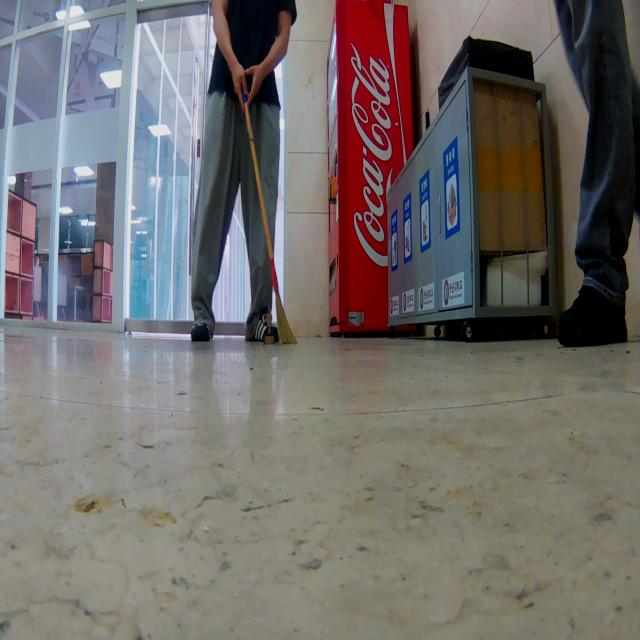target: (263, 312, 276, 345)
